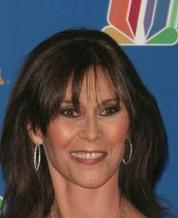face: (57, 98, 120, 164)
